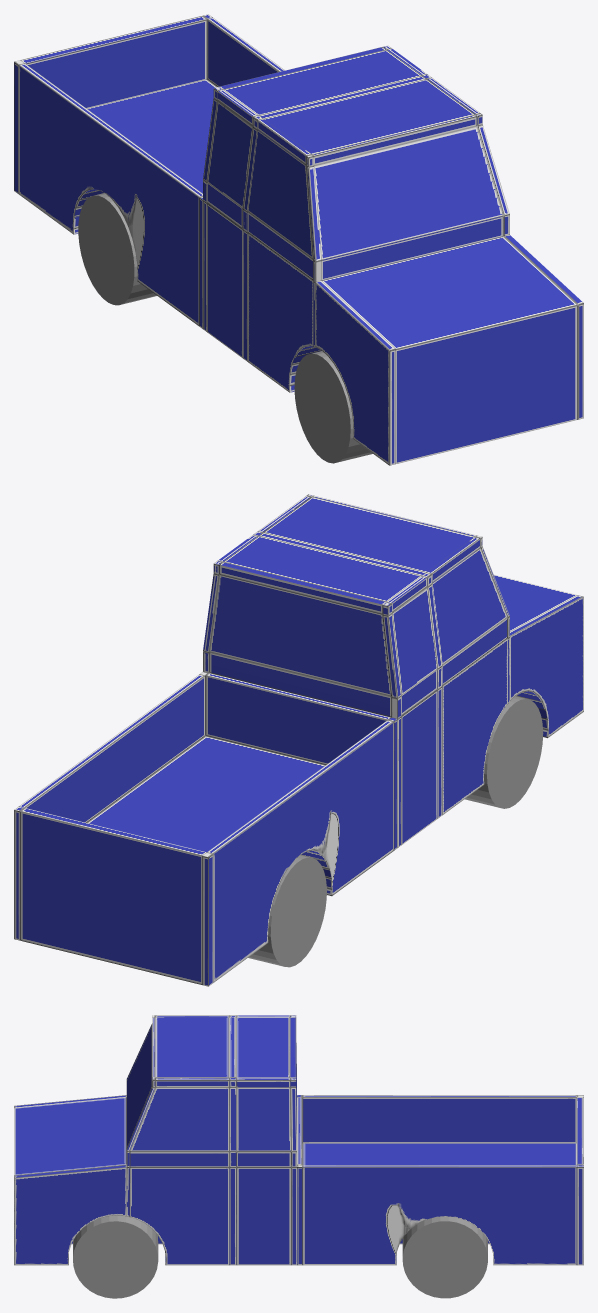
The model's file is truckv1.obj.
The picture shows the model from 3 angles, top to bottom: view 1: azimuth 30°, elevation 25°; view 2: azimuth 150°, elevation 25°; view 3: azimuth 270°, elevation 25°; orthographic projection. The views are drawn at different scales.
Parts seen in each view (by area): view 1: truckbody_Cube.001, rightfrontwheel_Cylinder.003_Cylinder.003, backrightwheel_Cylinder.003_Cylinder.002; view 2: truckbody_Cube.001, rightfrontwheel_Cylinder.003_Cylinder.003, backrightwheel_Cylinder.003_Cylinder.002; view 3: truckbody_Cube.001, leftfrontwheel_Cylinder.003_Cylinder.000, backleftwheel_Cylinder.003_Cylinder.001.
Part boxes in pixels (bbox=[...]): truckbody_Cube.001: bbox=[14, 14, 583, 465]; rightfrontwheel_Cylinder.003_Cylinder.003: bbox=[294, 351, 372, 463]; backrightwheel_Cylinder.003_Cylinder.002: bbox=[78, 193, 156, 305]; truckbody_Cube.001: bbox=[14, 494, 583, 986]; rightfrontwheel_Cylinder.003_Cylinder.003: bbox=[465, 696, 543, 808]; backrightwheel_Cylinder.003_Cylinder.002: bbox=[248, 855, 326, 967]; truckbody_Cube.001: bbox=[14, 1015, 583, 1265]; leftfrontwheel_Cylinder.003_Cylinder.000: bbox=[73, 1215, 158, 1298]; backleftwheel_Cylinder.003_Cylinder.001: bbox=[402, 1216, 487, 1298].
Bounding box in the file's own units: 1.53 × 2.13 × 5.12.
